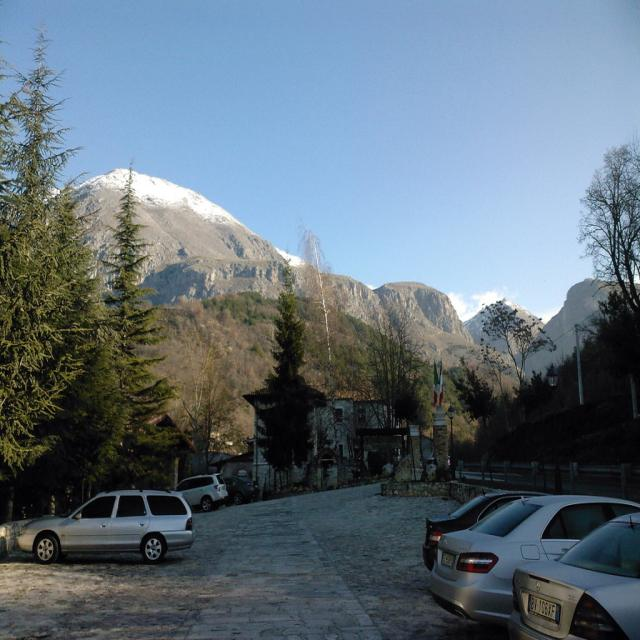car: (16, 484, 195, 564)
